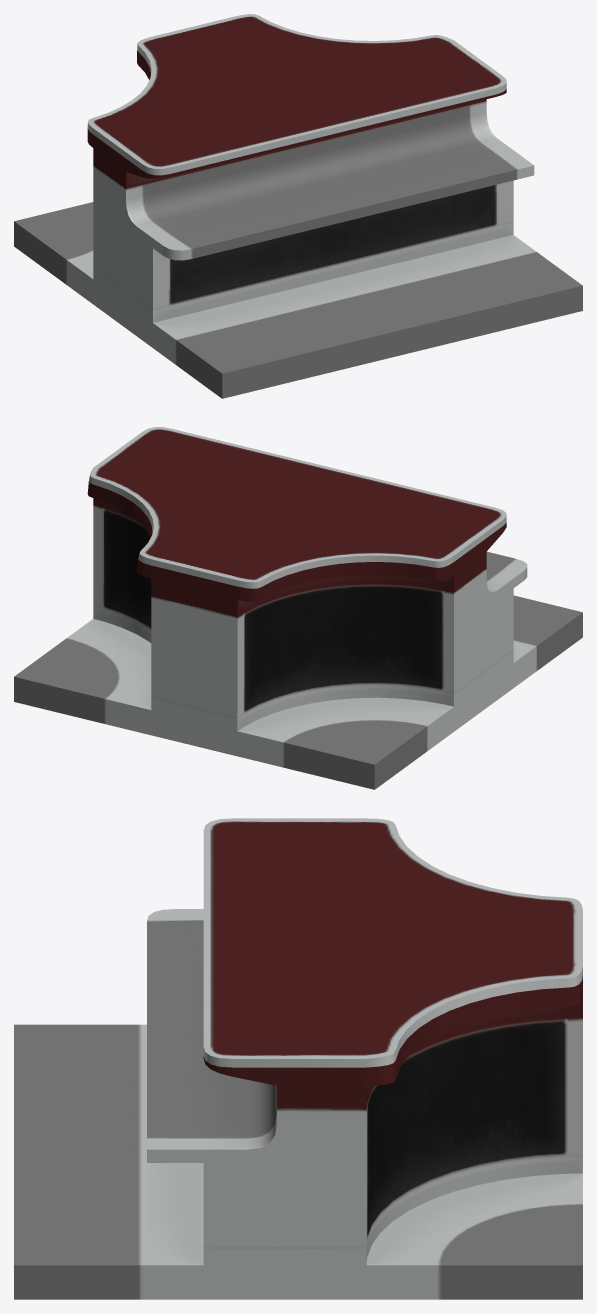
Rendered from Room_Floor_TType_A_A.FBX.
3 views of the same model, one above another, from view 1: azimuth 30°, elevation 25°; view 2: azimuth 150°, elevation 25°; view 3: azimuth 270°, elevation 25° (orthographic). The views are drawn at different scales.
Visible parts, largest first — view 1: Room_Floor_TType_A_A; view 2: Room_Floor_TType_A_A; view 3: Room_Floor_TType_A_A.
Boxes of the visible parts, x1,y1,x2,y2 form: Room_Floor_TType_A_A: (14,14,582,398); Room_Floor_TType_A_A: (14,427,582,789); Room_Floor_TType_A_A: (14,818,582,1299).
Size of the model in its own units: 300 by 140 by 300.
1 material, 1 textured.
